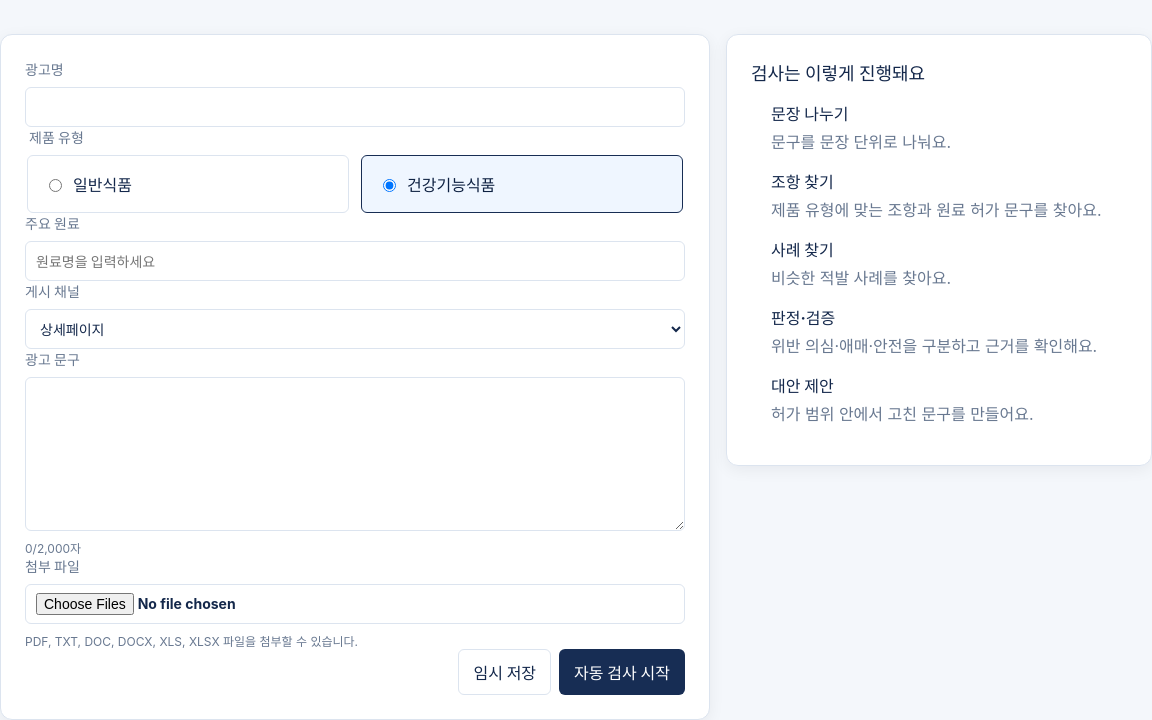
Test: CheckFormPage › requires an ad title and copy before starting a check
(page scrolled)
Click the button "자동 검사 시작". click: (622, 672)
box: [559, 649, 685, 695]
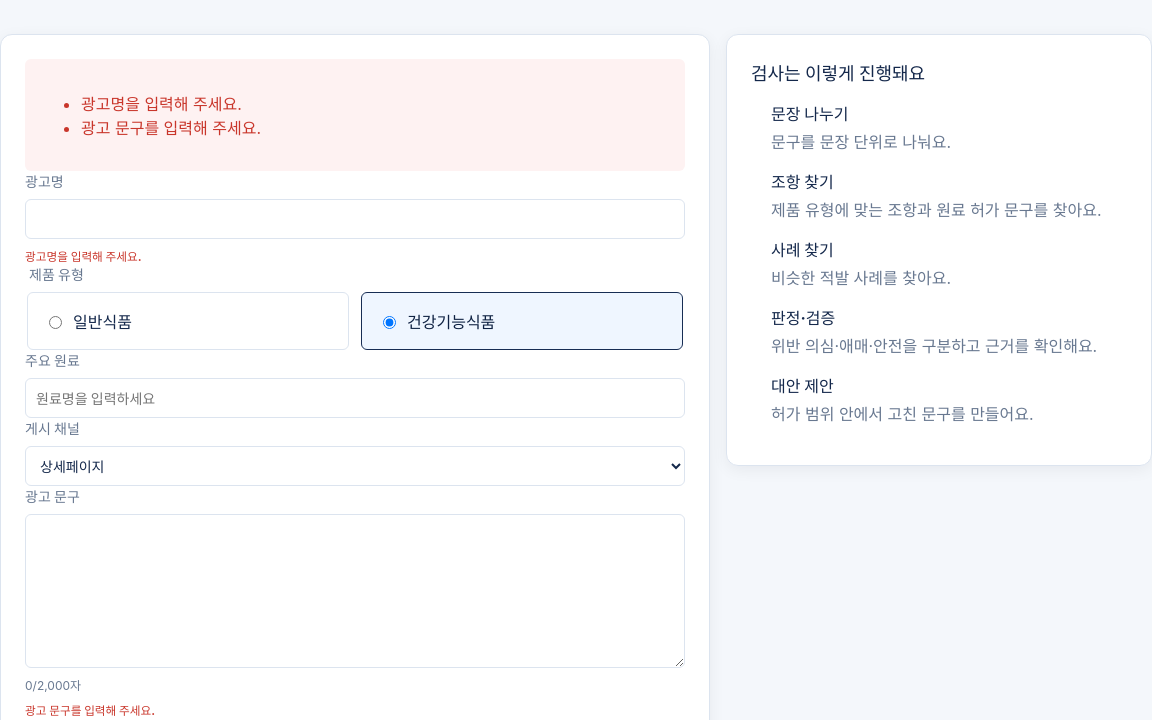
Expected: the message shows "광고명을 입력해 주세요.", [81, 94, 242, 114]
Expected: the message shows "광고 문구를 입력해 주세요.", [81, 118, 261, 138]
